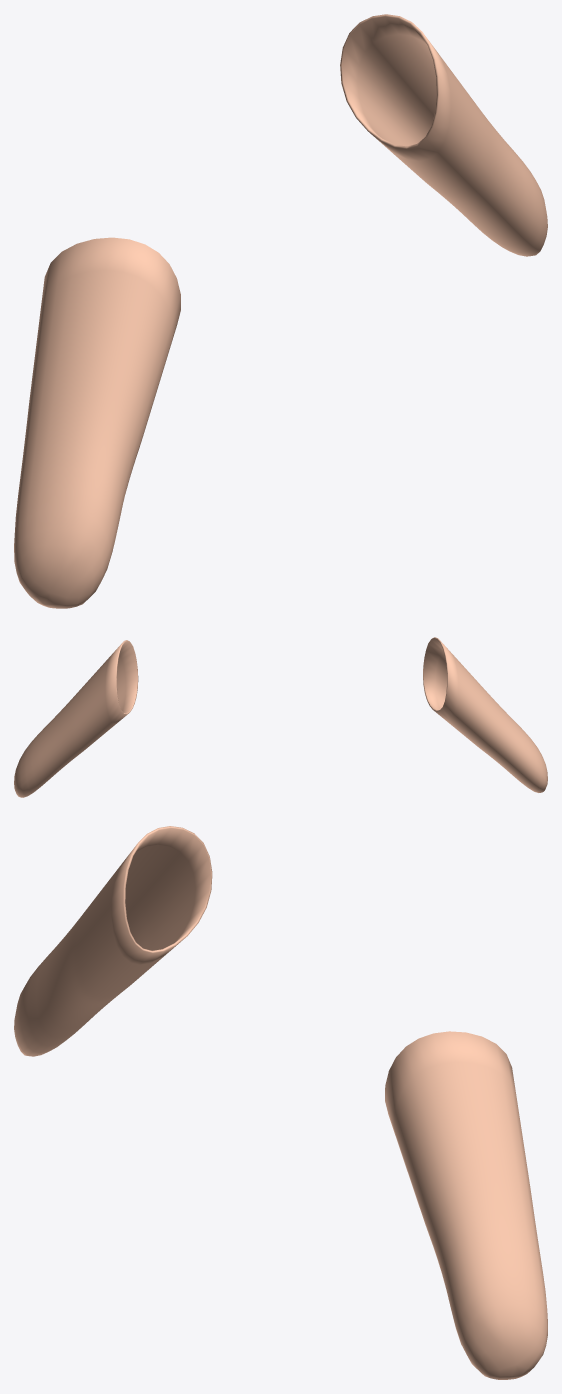
The model's file is tangan mc.fbx.
3 renders of one model, top to bottom at view 1: azimuth 30°, elevation 25°; view 2: azimuth 150°, elevation 25°; view 3: azimuth 270°, elevation 25°, orthographic. The views are drawn at different scales.
Visible parts, largest first — view 1: Roundcube.003, Roundcube.004; view 2: Roundcube.004, Roundcube.003; view 3: Roundcube.004, Roundcube.003.
Boxes of the visible parts, x1,y1,x2,y2 form: Roundcube.003: (14,237,180,608); Roundcube.004: (340,14,547,256); Roundcube.004: (14,640,138,797); Roundcube.003: (423,637,547,792); Roundcube.004: (385,1031,547,1379); Roundcube.003: (14,826,212,1056).
Size of the model in its own units: 176 by 65.94 by 115.
